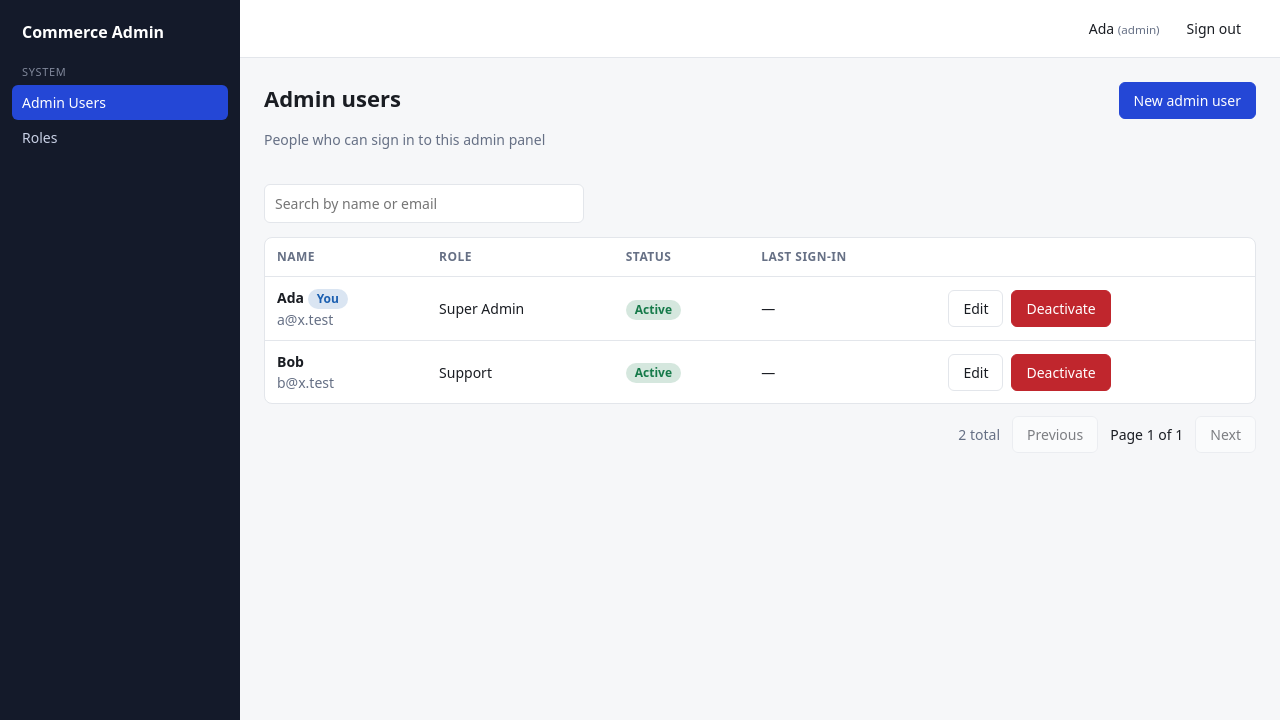
Test case: admin users › surfaces the last-super-admin conflict when deactivating
The width and height of the screenshot is (1280, 720).
Click the button named "Deactivate Ada" at {"x": 1061, "y": 308}, box [1012,290,1111,327]
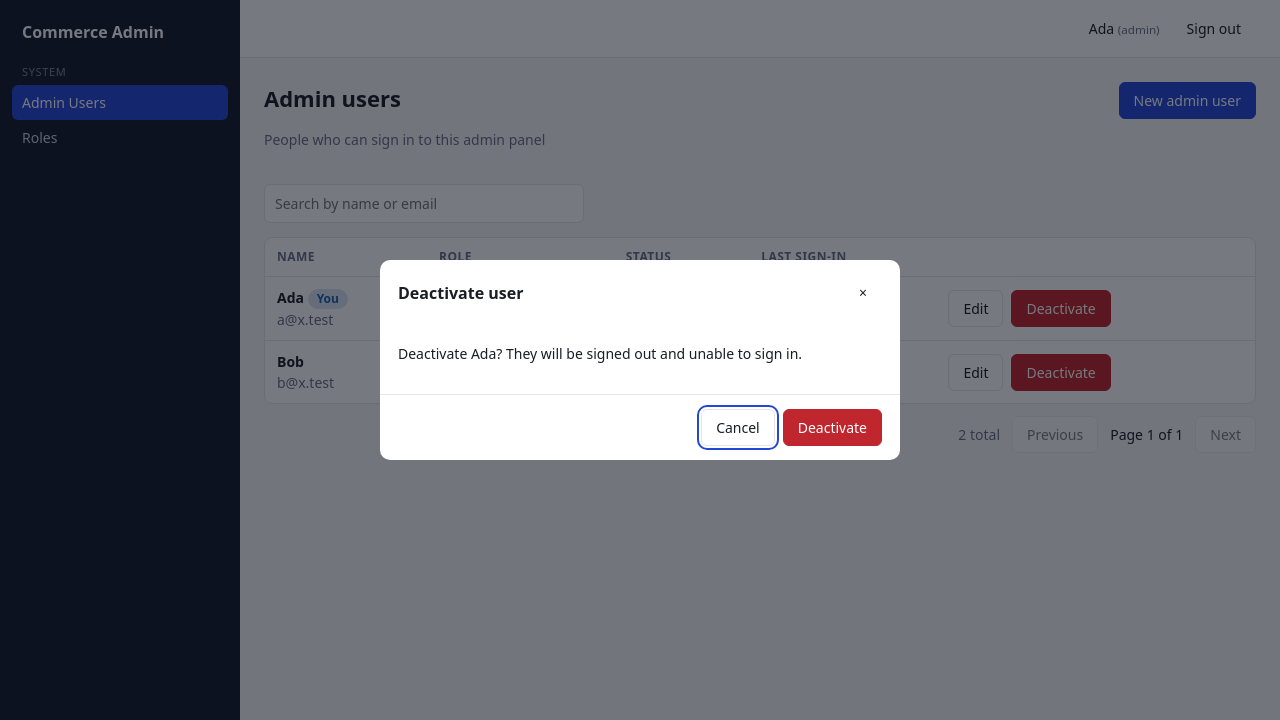
Click the button "Deactivate" at {"x": 832, "y": 428}, box [783,409,882,446]
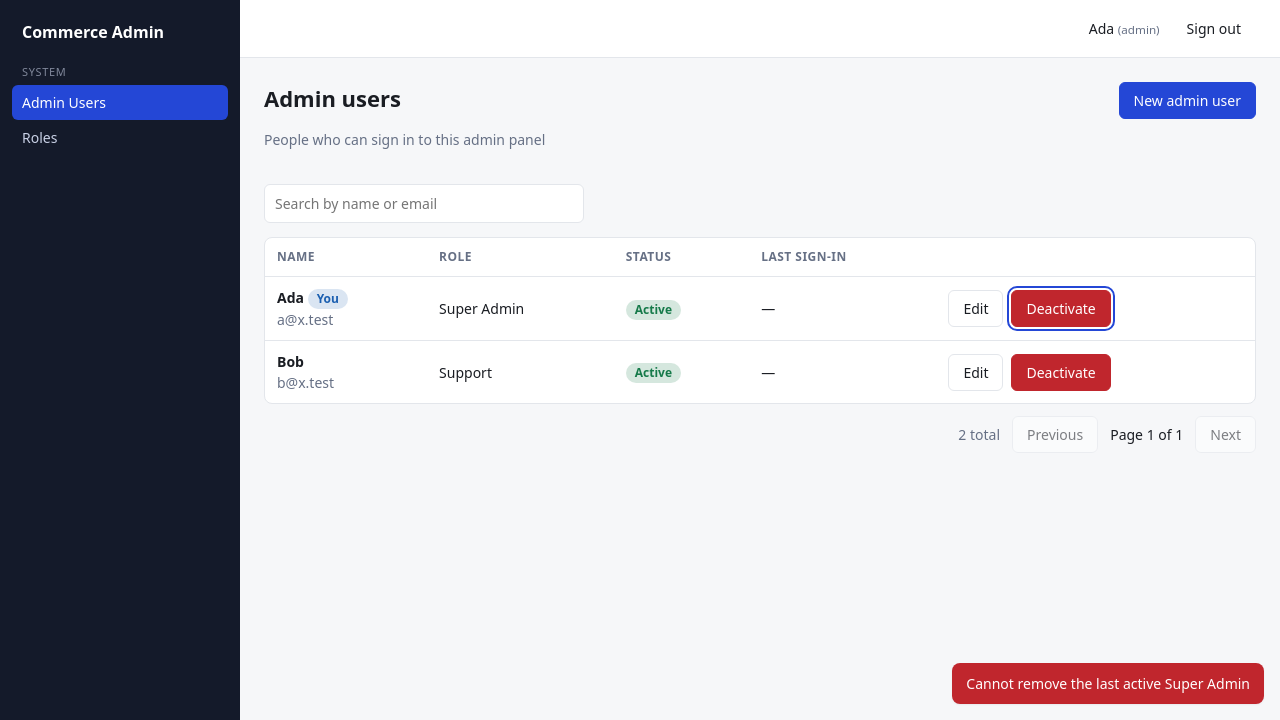
Result: the text "Cannot remove the last active Super Admin" is shown at [952,663,1264,704]
